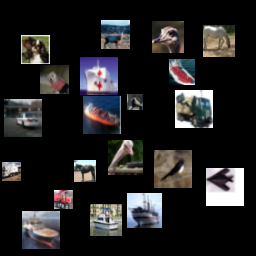airplane: (206, 168, 244, 206)
automobile: (4, 99, 42, 137)
bird: (154, 150, 192, 188), (108, 140, 143, 175), (152, 21, 184, 53)
cat: (127, 94, 143, 110)
deer: (101, 20, 130, 49)
dog: (21, 35, 50, 64), (40, 65, 69, 94)
ship: (83, 96, 121, 134), (22, 211, 60, 249), (80, 57, 118, 95), (127, 193, 162, 228), (90, 204, 122, 236), (169, 59, 195, 85)
